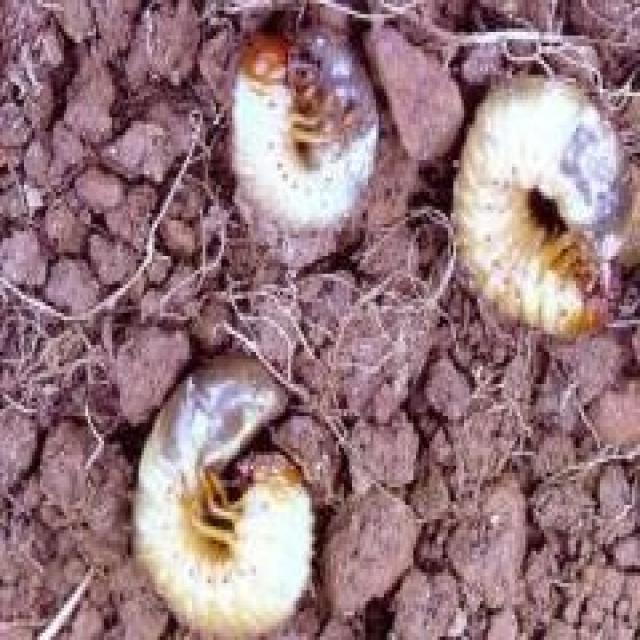grub: (110, 334, 324, 636), (436, 80, 622, 350), (220, 40, 385, 246)
